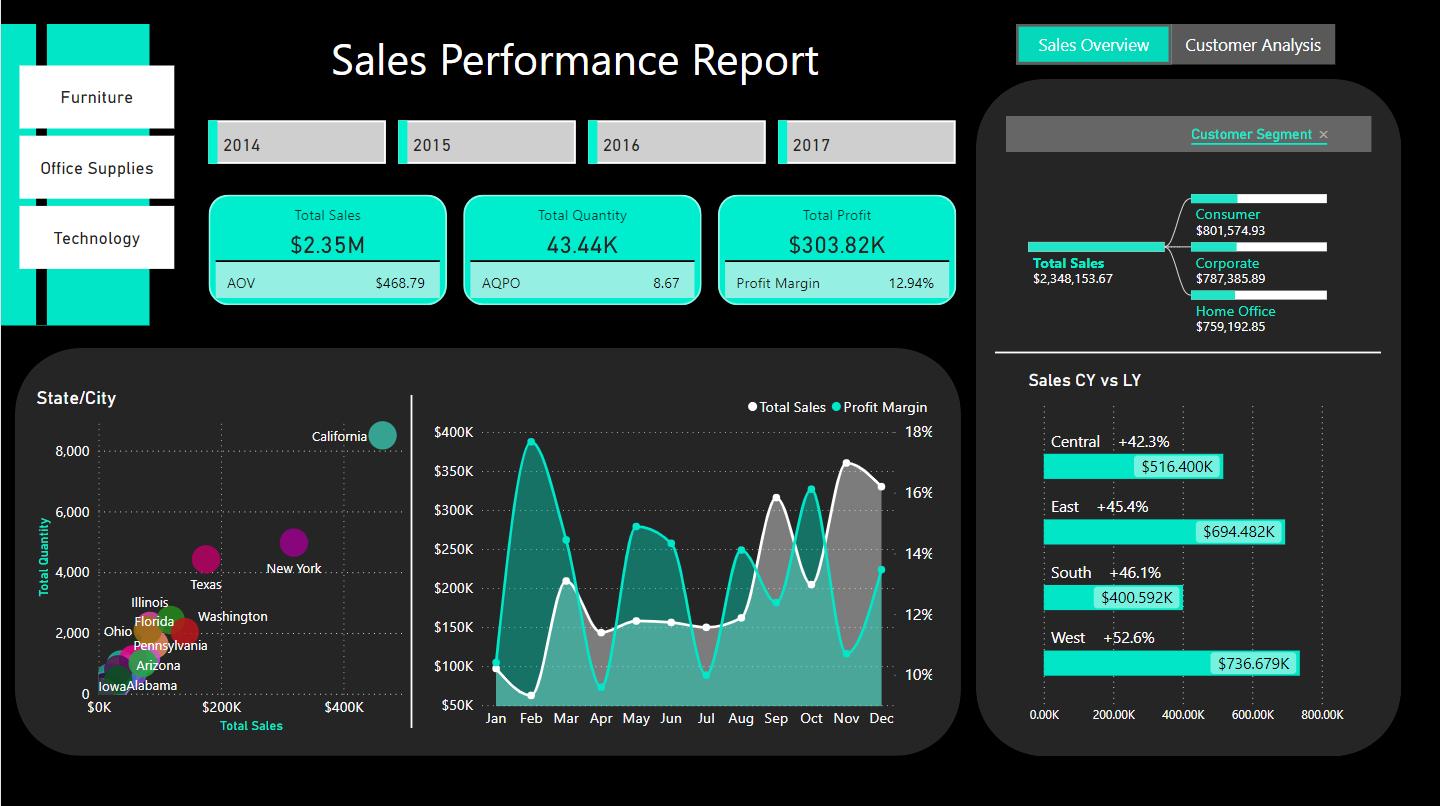

The page's visual inventory and layout, read from the dashboard file:
{"tool":"powerbi","page":{"name":"Sales Overview","canvas":[1600,900],"ordinal":0},"visuals":[{"type":"shape","box":[1083.8,87.5,472.5,752.5],"z":0},{"type":"shape","box":[15.6,386.7,1051.1,453.3],"z":1000},{"type":"shape","box":[0,26.2,165,335],"z":2000},{"type":"cardVisual","fields":{"Data":["Metrics.Total Sales","Metrics.Total Quantity","Metrics.Total Profit"]},"box":[225.6,211.1,841.1,133.3],"z":3000},{"type":"clusteredBarChart","title":"Sales CY vs LY","fields":{"Category":["dimLocation.Region"],"Y":["Metrics.Label Placeholder (Negative Value)","Metrics.Total Sales"]},"box":[1136.2,411.2,366.2,401.2],"z":4000},{"type":"areaChart","title":"Sales & Profit Margin By Month","fields":{"Category":["dim_Date.MonthName","dim_Date.Year Hierarchy.Year","dim_Date.Year Hierarchy.Quarter/Year"],"Y":["Metrics.Total Sales"],"Y2":["Metrics.Profit Margin"]},"box":[475.7,430,564.3,388.6],"z":5000},{"type":"advancedSlicerVisual","fields":{"Values":["dim_Date.Year"]},"box":[225.6,128.9,840,58.9],"z":6000},{"type":"textbox","box":[297.5,26.2,680,76.2],"z":7000},{"type":"actionButton","title":"Sa","box":[1127.5,26.2,172.5,45],"z":8000},{"type":"actionButton","title":"Sa","box":[1300,26.2,182.5,45],"z":9000},{"type":"decompositionTreeVisual","fields":{"Analyze":["Metrics.Total Sales"],"ExplainBy":["dimCustomerSegment.Customer Segment"]},"box":[1116.2,128.8,406.2,282.5],"z":10000},{"type":"shape","box":[15.6,25.6,58.9,335.6],"z":11000},{"type":"scatterChart","title":"State/City","fields":{"Series":["dimLocation.State"],"Y":["Metrics.Total Quantity"],"X":["Metrics.Total Sales"]},"box":[34.4,430,441.1,388.9],"z":12000},{"type":"advancedSlicerVisual","fields":{"Values":["dimProduct.Category"]},"box":[15.6,67.8,182.2,238.9],"z":13000},{"type":"shape","box":[426.7,438.9,58.9,370],"z":14000},{"type":"shape","box":[1104.4,372.2,428.9,38.9],"z":15000}]}

Visuals, with their boxes in screenshot pixels (x1, y1, x2, y2), scaled from the page's 1600x900 canvas onto the 1440x806 screenshot:
shape: (975, 78, 1401, 752)
shape: (14, 346, 960, 752)
shape: (0, 23, 148, 323)
cardVisual - Metrics.Total Sales x Metrics.Total Quantity: (203, 189, 960, 308)
"Sales CY vs LY" clusteredBarChart: (1023, 368, 1352, 728)
"Sales & Profit Margin By Month" areaChart: (428, 385, 936, 733)
advancedSlicerVisual - dim_Date.Year: (203, 115, 959, 168)
textbox: (268, 23, 880, 92)
"Sa" actionButton: (1015, 23, 1170, 64)
"Sa" actionButton: (1170, 23, 1334, 64)
decompositionTreeVisual - Metrics.Total Sales x dimCustomerSegment.Customer Segment: (1005, 115, 1370, 368)
shape: (14, 23, 67, 323)
"State/City" scatterChart: (31, 385, 428, 733)
advancedSlicerVisual - dimProduct.Category: (14, 61, 178, 275)
shape: (384, 393, 437, 724)
shape: (994, 333, 1380, 368)
